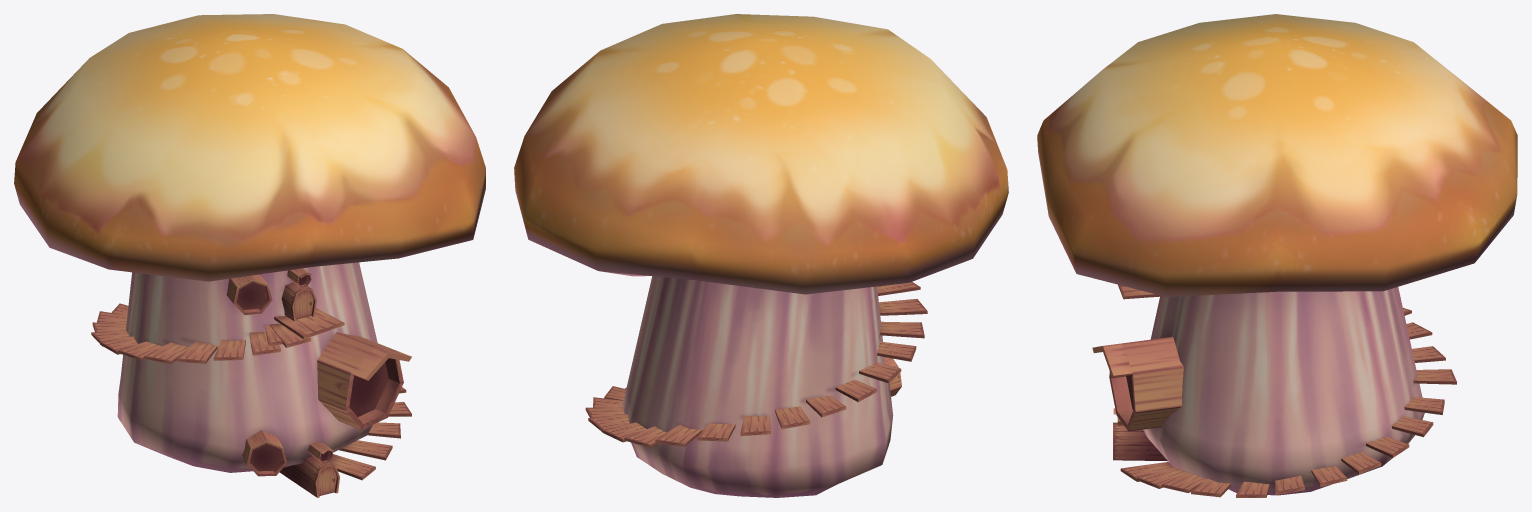
Rendered from mushroom_home_M_02.fbx.
3 views of the same model, side by side, from view 1: azimuth 30°, elevation 25°; view 2: azimuth 150°, elevation 25°; view 3: azimuth 270°, elevation 25° (orthographic). The views are drawn at different scales.
Parts seen in each view (by area): view 1: mushroom_home_M2; view 2: mushroom_home_M2; view 3: mushroom_home_M2.
Part boxes in pixels (box(x1,y1,x2,y2)): mushroom_home_M2: box(14, 14, 485, 497); mushroom_home_M2: box(514, 14, 1008, 497); mushroom_home_M2: box(1037, 14, 1517, 497).
Size of the model in its own units: 1479 by 1363 by 1448.
